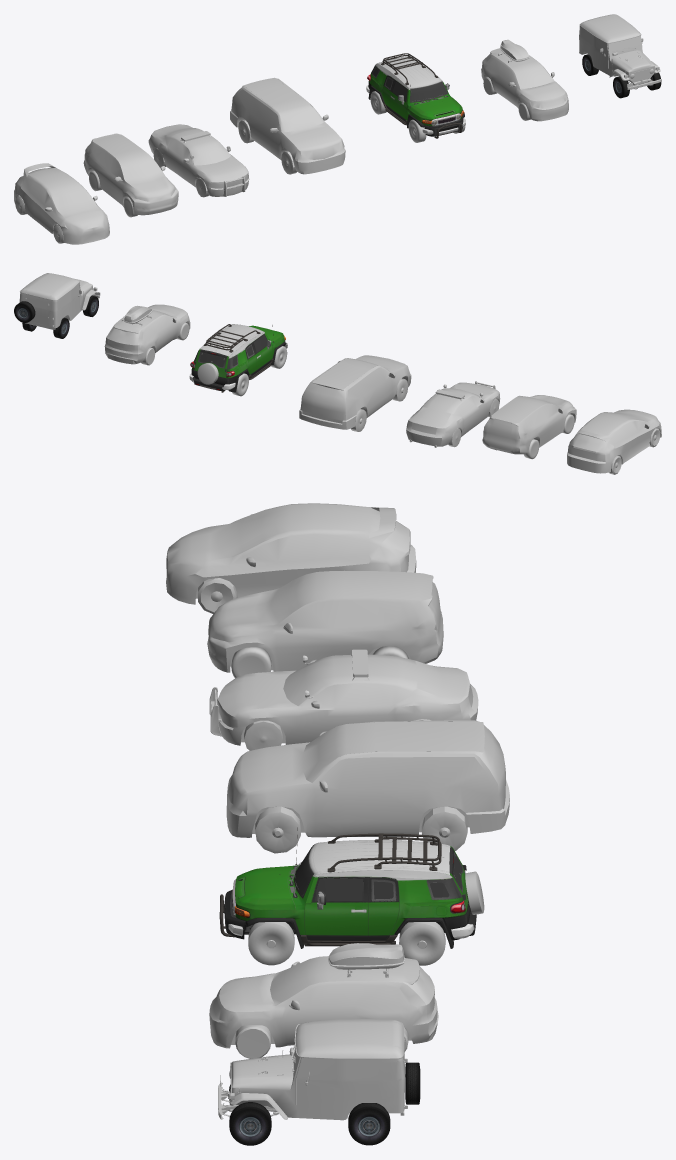
The model's file is new_Cars.fbx.
The picture shows the model from 3 angles, top to bottom: view 1: azimuth 30°, elevation 25°; view 2: azimuth 150°, elevation 25°; view 3: azimuth 270°, elevation 25°; orthographic projection. The views are drawn at different scales.
Visible parts, largest first — view 1: red_suv, green_jeep, blue_car_body, blue_suv_, police_body, red_car, jeep_body; view 2: red_suv, green_jeep, blue_car_body, blue_suv_, police_body, red_car, jeep_body; view 3: red_suv, green_jeep, blue_suv_, police_body, blue_car_body, red_car, jeep_body, front_left_tyre, left_front_tyre, left_back_tyre, jeep_left_front_tyre, jeep_left_back_tyre (+5 smaller).
Boxes of the visible parts, bbox=[...] form: red_suv: bbox=[230, 77, 345, 174]; green_jeep: bbox=[366, 53, 465, 138]; blue_car_body: bbox=[14, 163, 109, 244]; blue_suv_: bbox=[83, 133, 178, 215]; police_body: bbox=[148, 124, 249, 196]; red_car: bbox=[481, 39, 568, 121]; jeep_body: bbox=[579, 14, 661, 89]; red_suv: bbox=[299, 355, 411, 429]; green_jeep: bbox=[189, 324, 287, 392]; blue_car_body: bbox=[567, 409, 661, 473]; blue_suv_: bbox=[482, 395, 576, 454]; police_body: bbox=[406, 381, 500, 447]; red_car: bbox=[104, 304, 190, 364]; jeep_body: bbox=[14, 273, 100, 329]; red_suv: bbox=[226, 720, 509, 837]; green_jeep: bbox=[219, 827, 484, 948]; blue_suv_: bbox=[207, 570, 443, 672]; police_body: bbox=[209, 649, 478, 745]; blue_car_body: bbox=[166, 503, 416, 604]; red_car: bbox=[209, 943, 438, 1048]; jeep_body: bbox=[218, 1019, 420, 1120]; front_left_tyre: bbox=[255, 806, 300, 853]; left_front_tyre: bbox=[248, 922, 294, 965]; left_back_tyre: bbox=[399, 922, 445, 965]; jeep_left_front_tyre: bbox=[229, 1102, 271, 1145]; jeep_left_back_tyre: bbox=[348, 1103, 390, 1145].
Bounding box in the file's own units: 26.56 × 2.24 × 6.64.
